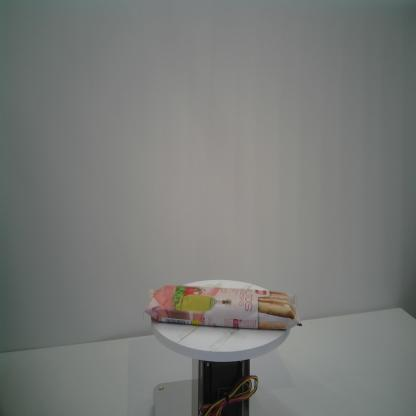Dessert: (138, 282, 304, 331)
